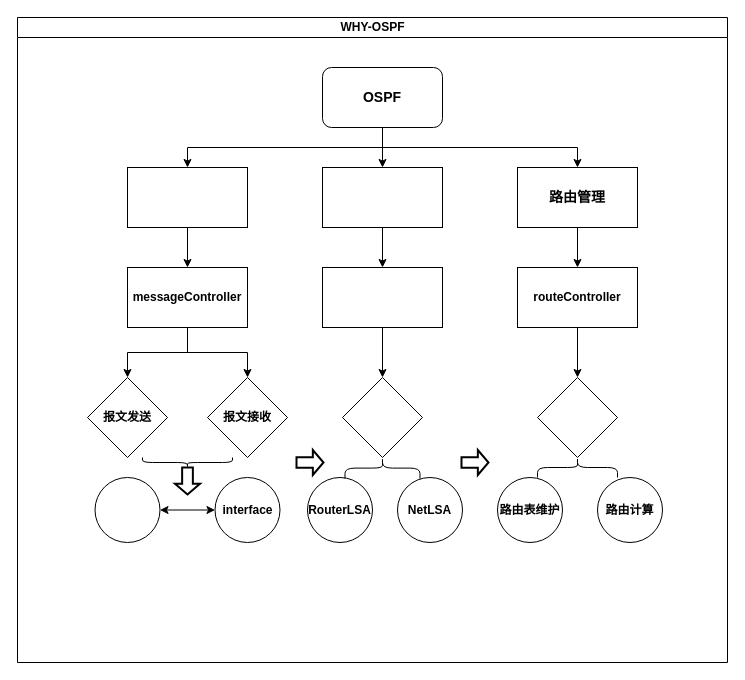
The diagram is 745 pixels wide and 680 high, and some of its shapes have lost their labels. Here are the shapes that lost their labels. From the top down, the centre of each, then its label:
(187,197): 报文收发
(382,197): LSA处理
(382,297): LSAController
(382,417): LSDB
(577,417): route
(127,509): neighbor
